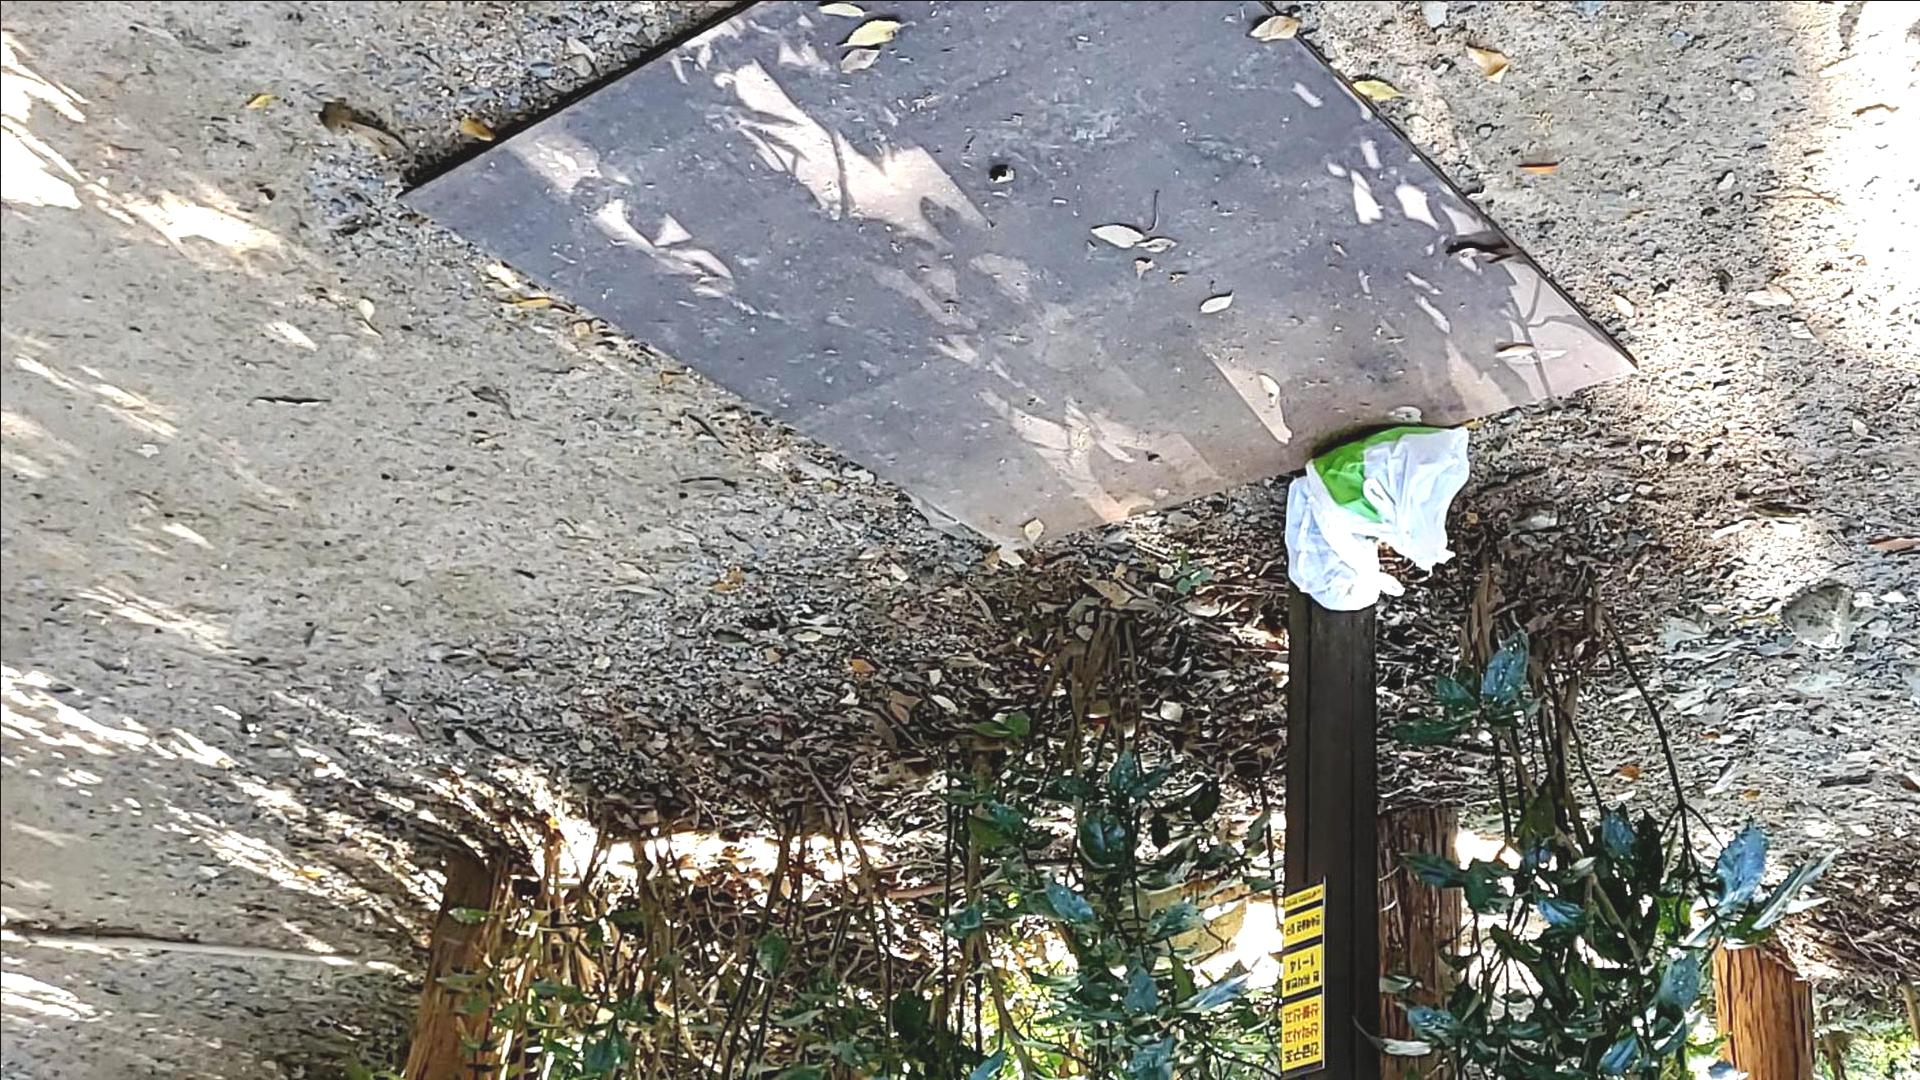white_bag: (1299, 418, 1476, 572), (1275, 473, 1412, 620)
